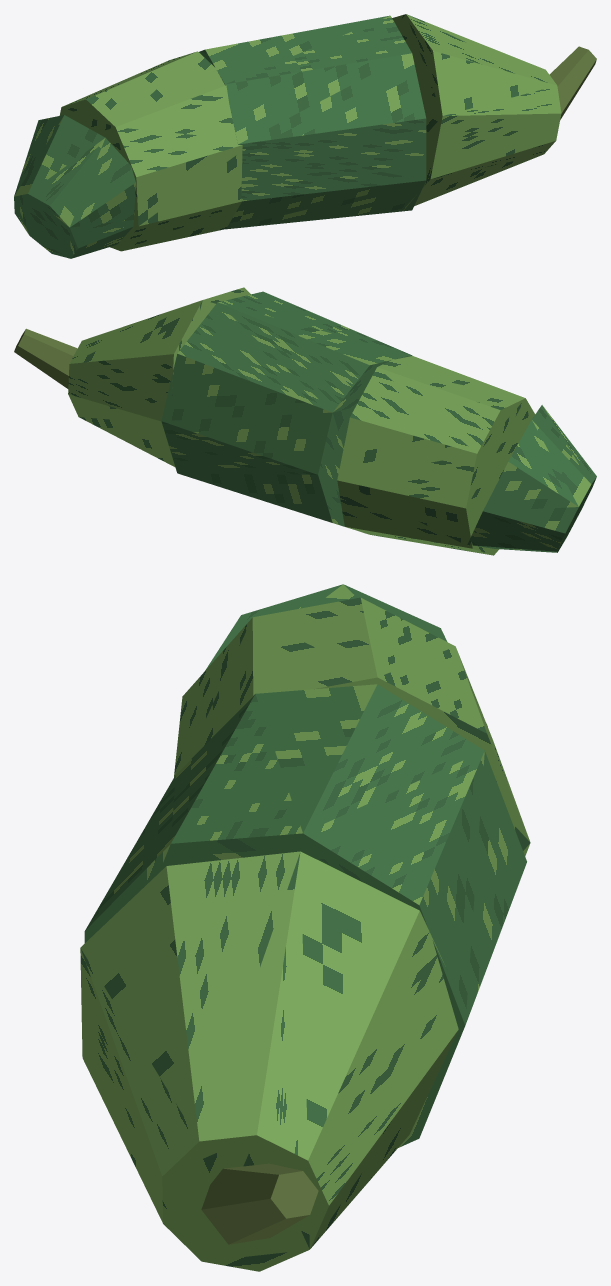
File: cucumber.glb
The picture shows the model from 3 angles, top to bottom: view 1: azimuth 30°, elevation 25°; view 2: azimuth 150°, elevation 25°; view 3: azimuth 270°, elevation 25°; orthographic projection. The views are drawn at different scales.
Parts seen in each view (by area): view 1: block_cucumber 2, block_cucumber 1, block_cucumber 3, block_cucumber 0, block_green peduncle; view 2: block_cucumber 2, block_cucumber 1, block_cucumber 3, block_cucumber 0, block_green peduncle; view 3: block_cucumber 3, block_cucumber 2, block_cucumber 1, block_green peduncle, block_cucumber 0.
Part boxes in pixels (x1,y1,x2,y2): block_cucumber 2: [199, 15, 426, 229]; block_cucumber 1: [59, 51, 242, 251]; block_cucumber 3: [392, 14, 561, 210]; block_cucumber 0: [14, 115, 135, 258]; block_green peduncle: [549, 46, 596, 119]; block_cucumber 2: [161, 291, 412, 526]; block_cucumber 1: [337, 356, 534, 555]; block_cucumber 3: [68, 287, 250, 466]; block_cucumber 0: [467, 405, 596, 552]; block_green peduncle: [14, 328, 77, 388]; block_cucumber 3: [80, 851, 458, 1271]; block_cucumber 2: [84, 684, 526, 1147]; block_cucumber 1: [174, 597, 530, 855]; block_green peduncle: [201, 1163, 318, 1244]; block_cucumber 0: [205, 584, 487, 726].
Bounding box in the file's own units: 0.22 × 0.0665 × 0.076.
1 material, 1 textured.
